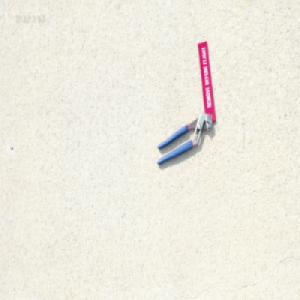Label: (197, 39, 215, 121)
Pliers: (155, 112, 211, 166)
